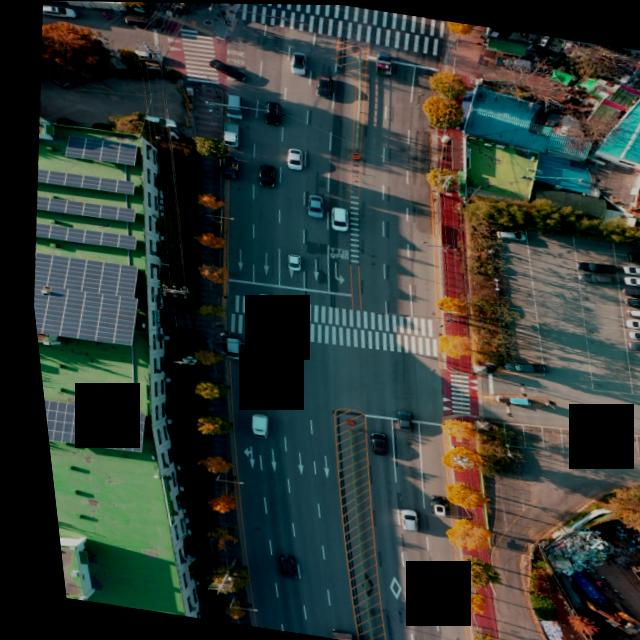car: (39, 65, 78, 92), (202, 57, 246, 80), (491, 358, 538, 376), (124, 13, 167, 31), (569, 256, 612, 273), (220, 91, 243, 118), (285, 50, 308, 76), (322, 204, 345, 230), (258, 98, 281, 124), (571, 270, 613, 284), (251, 162, 274, 187), (40, 2, 77, 17), (215, 335, 238, 359), (311, 74, 334, 98), (300, 193, 322, 218), (141, 116, 177, 131), (263, 553, 286, 576), (280, 147, 302, 171), (387, 508, 409, 532), (359, 432, 380, 456), (247, 292, 268, 316), (383, 409, 404, 431), (255, 343, 276, 365), (489, 227, 522, 241), (417, 495, 435, 516), (616, 274, 640, 289), (617, 261, 640, 276), (129, 48, 157, 60), (617, 317, 640, 331), (617, 294, 640, 308), (279, 253, 296, 271), (617, 285, 640, 298), (617, 306, 640, 319), (619, 249, 640, 263), (621, 327, 640, 342), (623, 337, 640, 352)
medium_truck: (313, 628, 342, 640)
small_truck: (492, 53, 533, 71), (237, 410, 261, 437), (371, 50, 395, 77), (215, 121, 238, 147), (214, 154, 237, 178)
